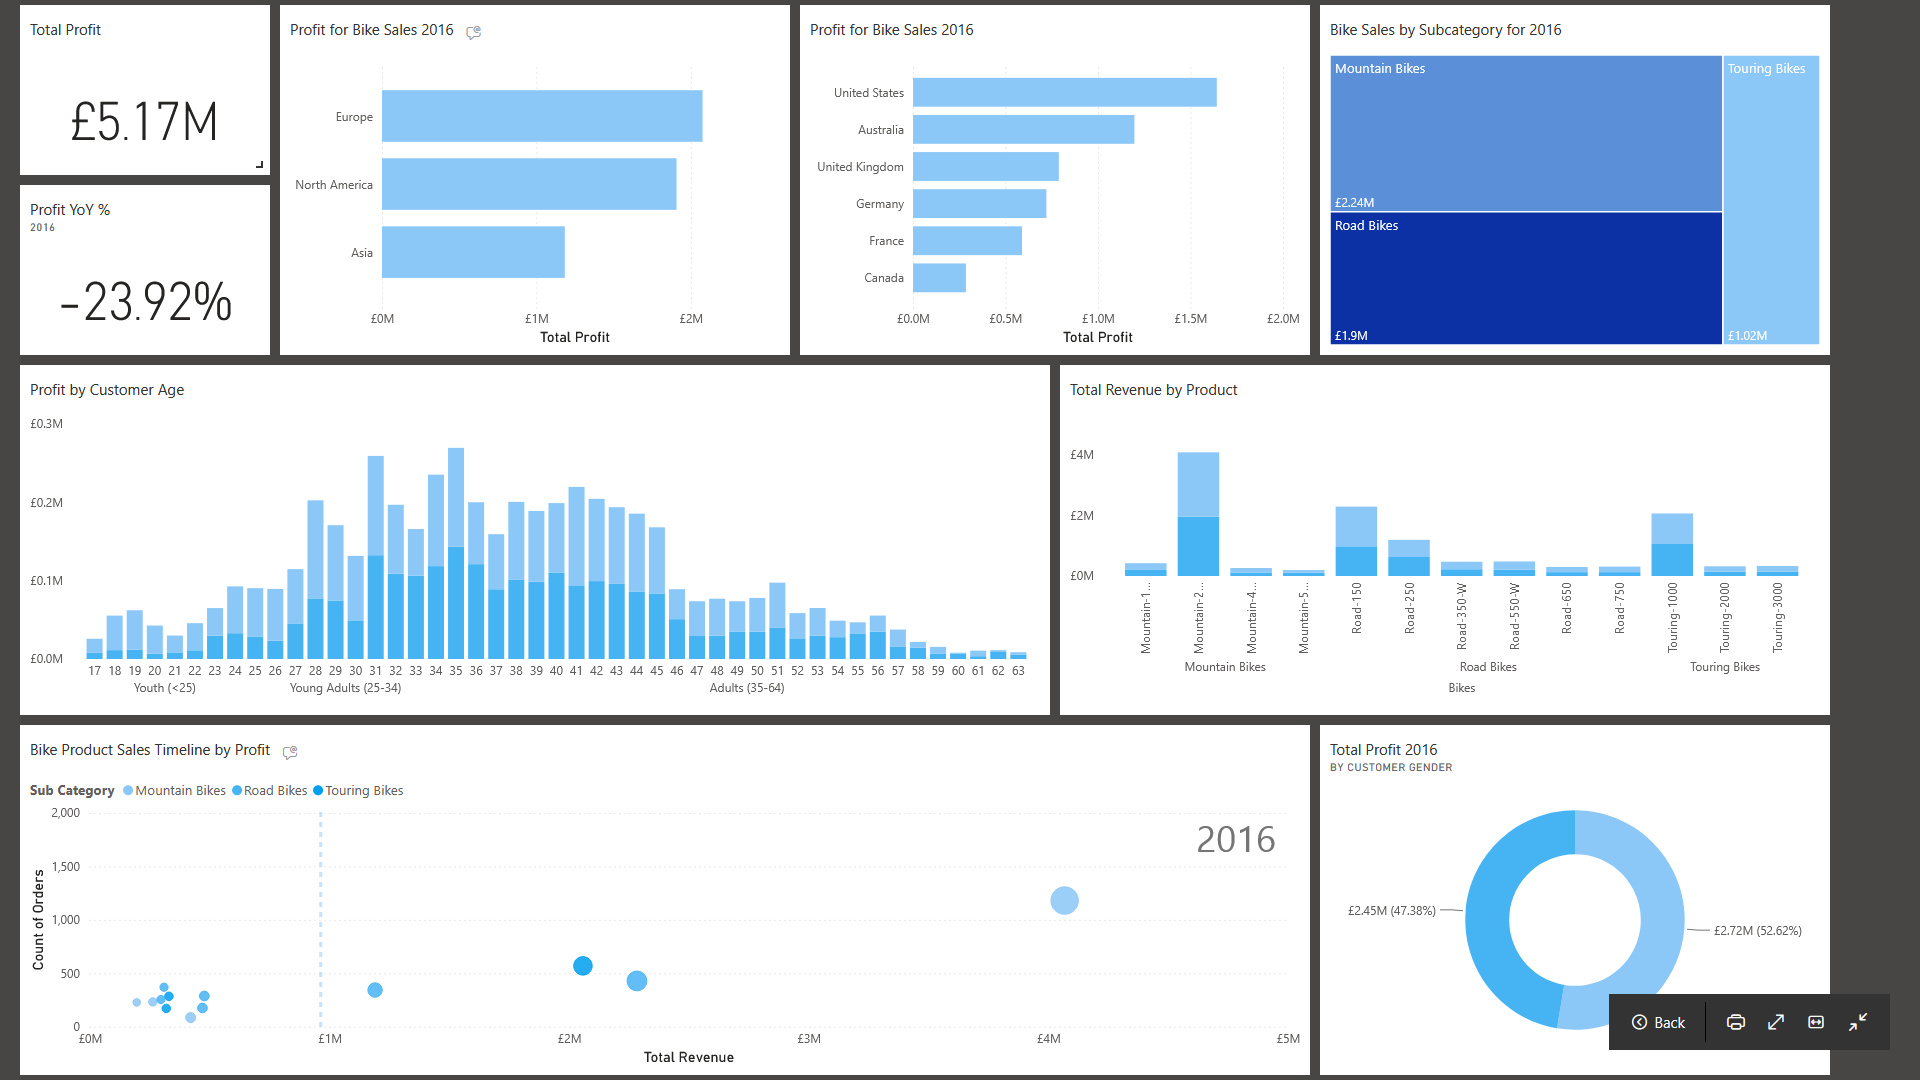

The dashboard page shown, as its layout file describes it:
{"tool":"powerbi","page":{"name":"Bike Sales Details","canvas":[1280,720],"ordinal":1},"visuals":[{"type":"barChart","title":"Profit by Customer Age","fields":{"Category":["Age Group.Age Group Hierarchy.Age Group","Age Group.Age Group Hierarchy.Customer Age"],"Y":["DAX Calculations.Total Profit"]},"box":[48,128,1168,512],"z":0},{"type":"donutChart","fields":{"Y":["DAX Calculations.Total Profit"],"Category":["Gender.Customer Gender"]},"box":[848,136,400,200],"z":0,"group":"g1"},{"type":"textbox","box":[1014.7,232.4,66.7,27.6],"z":1000,"group":"g1"},{"type":"columnChart","title":"Profit by Customer Age","fields":{"Category":["Age Group.Age Group Hierarchy.Age Group","Age Group.Age Group Hierarchy.Customer Age"],"Y":["DAX Calculations.Total Profit"],"Series":["Gender.Customer Gender"]},"box":[32,112,1216,544],"z":2000},{"type":"actionButton","box":[848,78,192,26],"z":4000},{"type":"actionButton","box":[656,78,192,26],"z":7000},{"type":"advancedSlicerVisual","fields":{"Values":["Calendar.Date Hierarchy.Year"]},"box":[652,34,600,40],"z":9000},{"type":"textbox","box":[144,32,496,64],"z":10000},{"type":"actionButton","box":[1040,78,192,26],"z":11000},{"type":"actionButton","box":[0,0,32,32],"z":16000},{"type":"textbox","box":[1040,680,160,32],"z":17000},{"type":"image","box":[1216,672,48,48],"z":18000},{"type":"textbox","box":[32,680,560,32],"z":19000},{"type":"group","id":"g1","title":"Group 1","box":[848,136,400,200],"z":21000}]}

Visuals, with their boxes in screenshot pixels (x1, y1, x2, y2), scaled from the page's 1280x720 canvas onto the 1920x1080 screenshot:
"Profit by Customer Age" barChart: BBox(72, 192, 1824, 960)
donutChart - DAX Calculations.Total Profit x Gender.Customer Gender: BBox(1272, 204, 1872, 504)
textbox: BBox(1522, 349, 1622, 390)
"Profit by Customer Age" columnChart: BBox(48, 168, 1872, 984)
actionButton: BBox(1272, 117, 1560, 156)
actionButton: BBox(984, 117, 1272, 156)
advancedSlicerVisual - Calendar.Date Hierarchy.Year: BBox(978, 51, 1878, 111)
textbox: BBox(216, 48, 960, 144)
actionButton: BBox(1560, 117, 1848, 156)
actionButton: BBox(0, 0, 48, 48)
textbox: BBox(1560, 1020, 1800, 1068)
image: BBox(1824, 1008, 1896, 1079)
textbox: BBox(48, 1020, 888, 1068)
"Group 1" group: BBox(1272, 204, 1872, 504)
